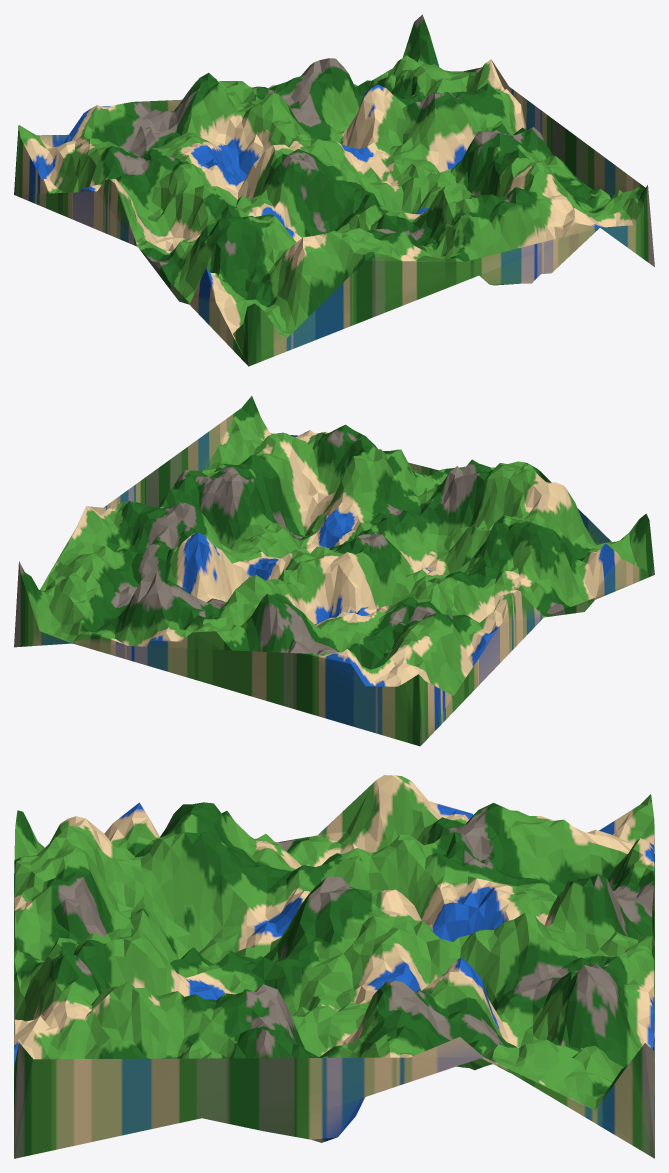
Rendered from flat.obj.
3 renders of one model, top to bottom at view 1: azimuth 30°, elevation 25°; view 2: azimuth 150°, elevation 25°; view 3: azimuth 270°, elevation 25°, orthographic. The views are drawn at different scales.
Bounding box in the file's own units: 256 × 57.24 × 256.
Materials: 1 (1 with a texture image).
